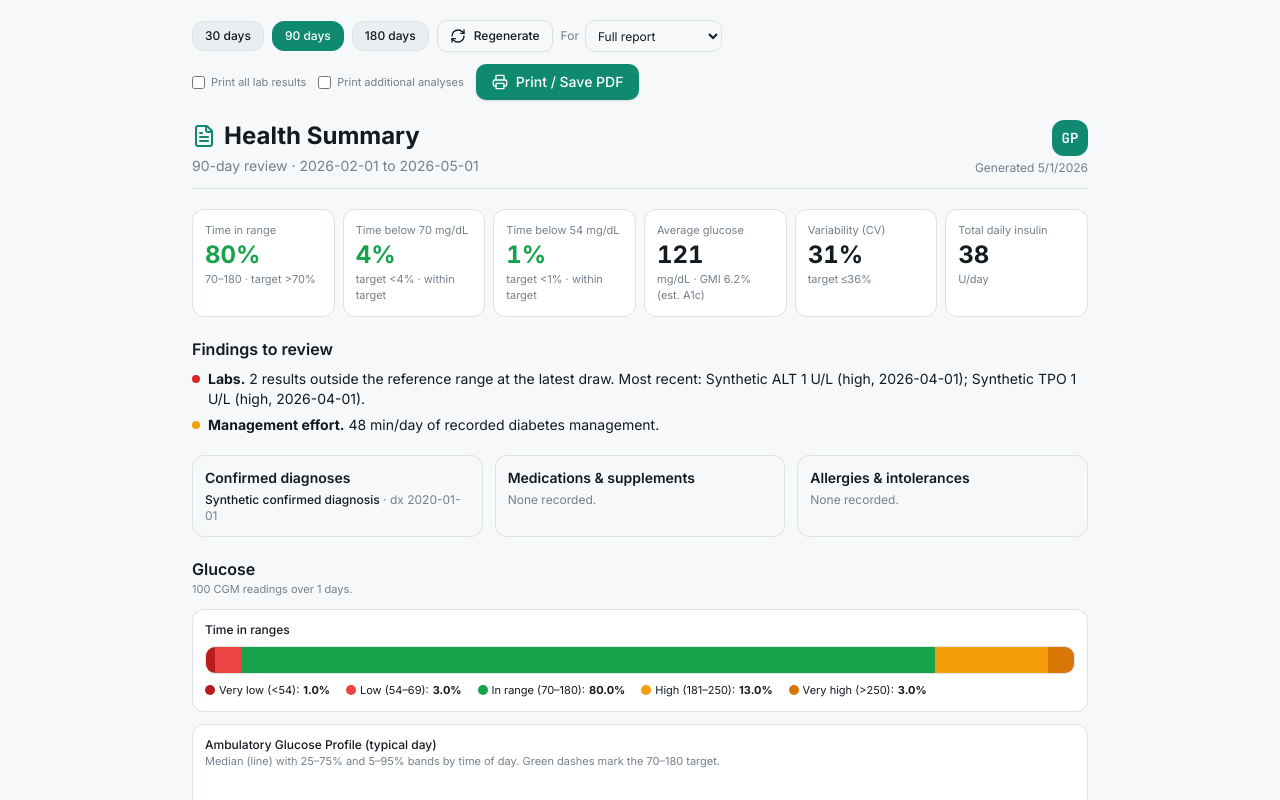
Scenario: visit report specialty views › shows a specialty's domains and keyword-matched labs and documents, without insurance
This screenshot has width=1280, height=800.
Select "Gastroenterology" in the dropdown named "Report view" at (653, 36), box [585, 20, 722, 52]
(page scrolled)
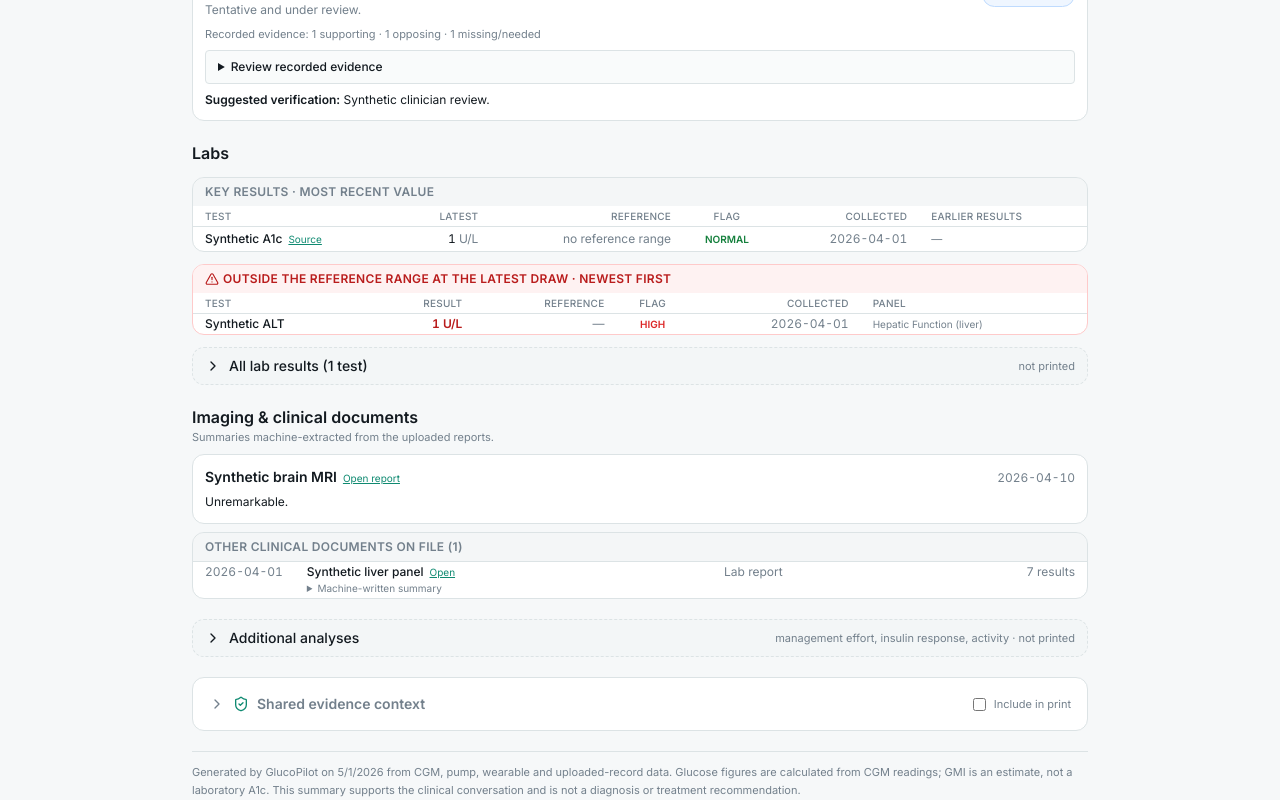
Expected: the text "Outside the reference range" shows "Synthetic ALT", [205, 316, 284, 331]
Result: the text "Time below 70 mg/dL" is gone
Result: the text "outside the reference range" no longer shows "Synthetic TPO"
